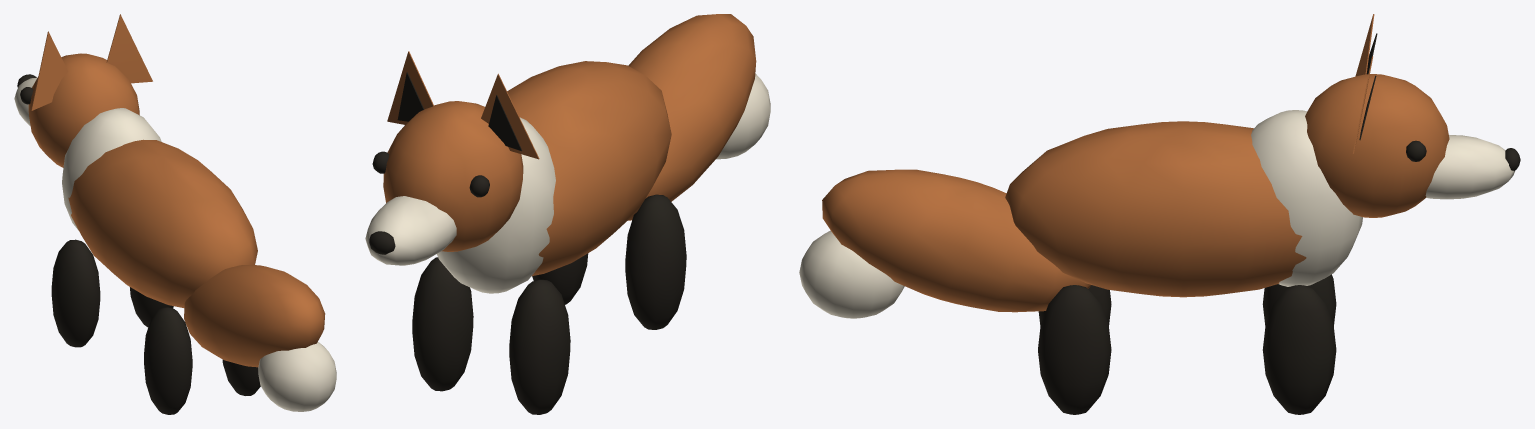
Rendered from fox.glb.
The picture shows the model from 3 angles, left to right: view 1: azimuth 30°, elevation 25°; view 2: azimuth 150°, elevation 25°; view 3: azimuth 270°, elevation 25°; orthographic projection. The views are drawn at different scales.
Parts seen in each view (by area): view 1: fox torso, chest, foot, foot.002, foot.003, foot.001; view 2: fox torso, chest, foot, foot.002, foot.001, nose, foot.003; view 3: fox torso, chest, foot.003, foot.001, foot, nose.
Boxes of the visible parts, x1,y1,x2,y2 form: fox torso: (28, 14, 325, 367); chest: (14, 77, 336, 411); foot: (51, 239, 100, 347); foot.002: (144, 307, 192, 414); foot.003: (222, 359, 260, 395); foot.001: (130, 287, 173, 327); fox torso: (383, 14, 756, 275); chest: (365, 73, 770, 293); foot: (509, 279, 570, 414); foot.002: (625, 194, 686, 329); foot.001: (412, 257, 473, 391); nose: (369, 72, 522, 254); foot.003: (532, 253, 588, 304); fox torso: (822, 14, 1449, 312); chest: (799, 110, 1514, 318); foot.003: (1038, 285, 1111, 414); foot.001: (1262, 285, 1336, 414); foot: (1262, 274, 1336, 326); nose: (1359, 33, 1520, 171).
Bounding box in the file's own units: 0.4403 × 1.02 × 1.86.
